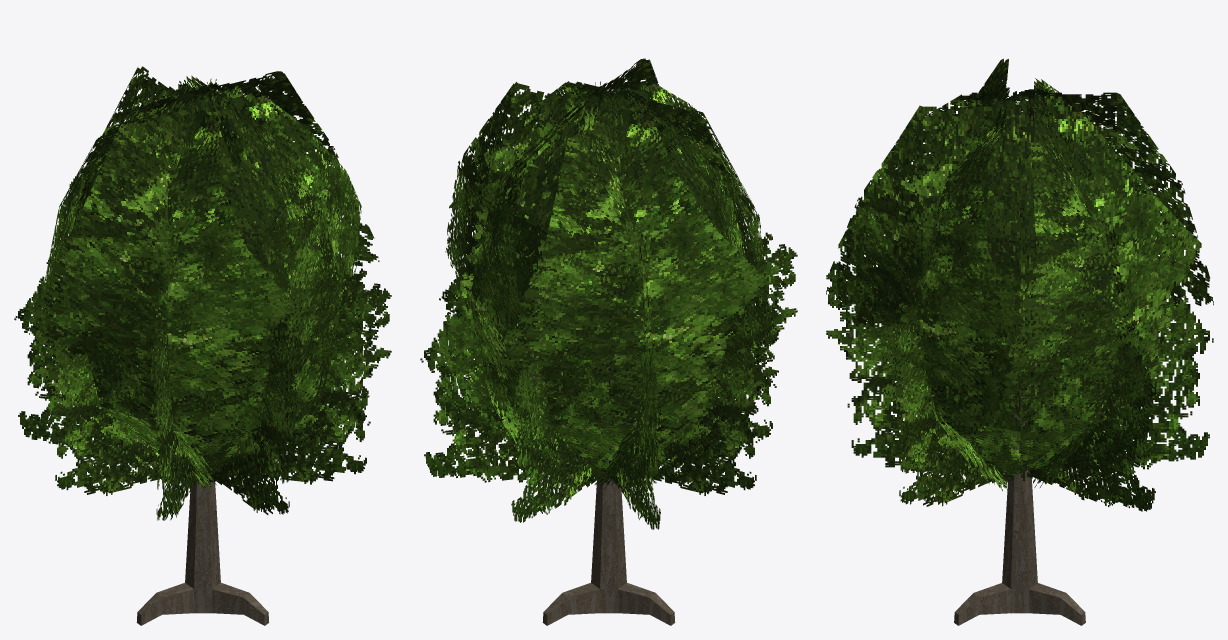
The model's file is tree04_spring.glb.
The picture shows the model from 3 angles, left to right: view 1: azimuth 30°, elevation 25°; view 2: azimuth 150°, elevation 25°; view 3: azimuth 270°, elevation 25°; orthographic projection.
Visible parts, largest first — view 1: tree04; view 2: tree04; view 3: tree04.
Boxes of the visible parts, bbox=[...] form: tree04: bbox=[14, 66, 391, 625]; tree04: bbox=[420, 58, 797, 625]; tree04: bbox=[826, 58, 1213, 625].
Size of the model in its own units: 5.92 by 8.64 by 5.92.
1 material, 1 textured.
